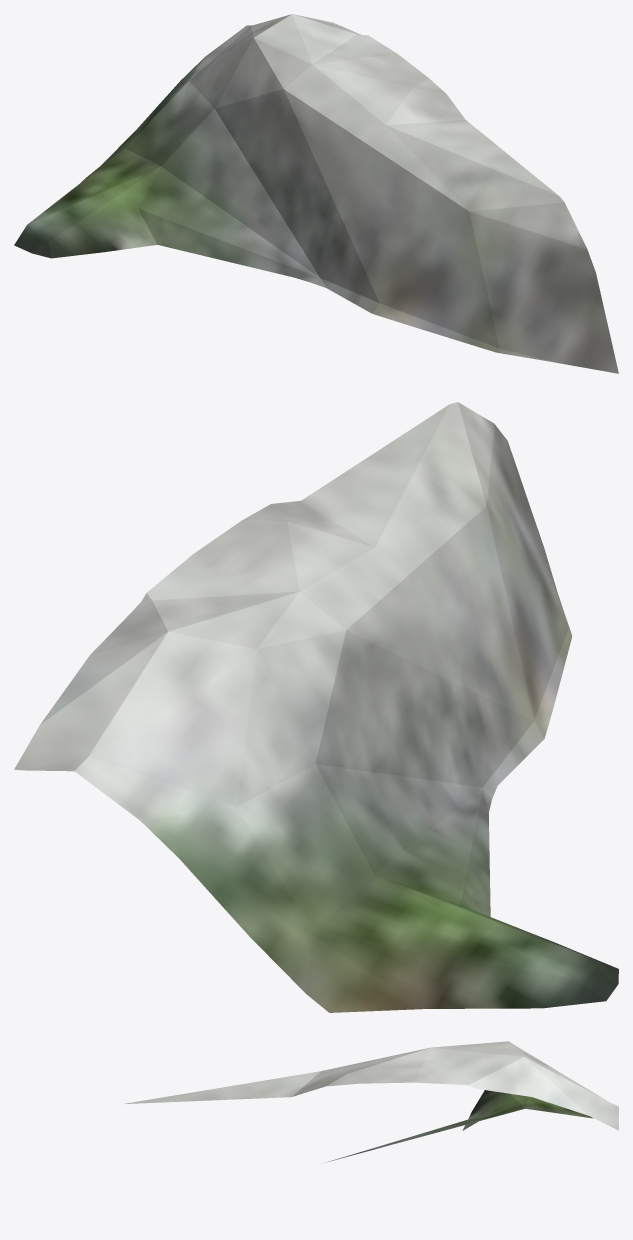
3 renders of one model, top to bottom at view 1: azimuth 30°, elevation 25°; view 2: azimuth 150°, elevation 25°; view 3: azimuth 270°, elevation 25°, orthographic. The views are drawn at different scales.
Bounding box in the file's own units: 0.526 × 0.2567 × 0.9453.
1 material, 1 textured.
